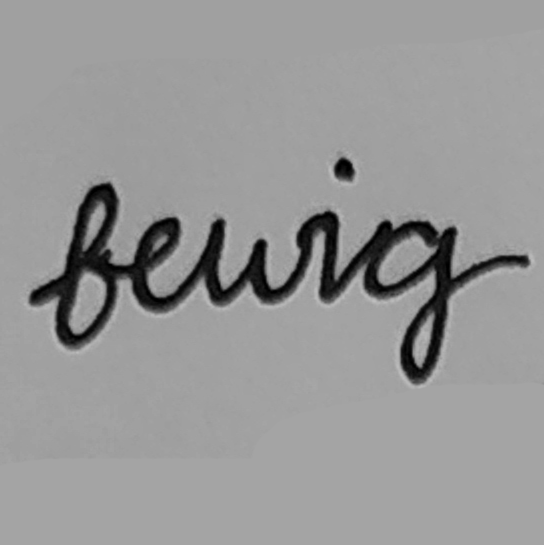b: (156, 221, 195, 311)
e: (197, 238, 226, 294)
g: (313, 239, 366, 329)
i: (287, 210, 312, 289)
w: (230, 239, 291, 290)
